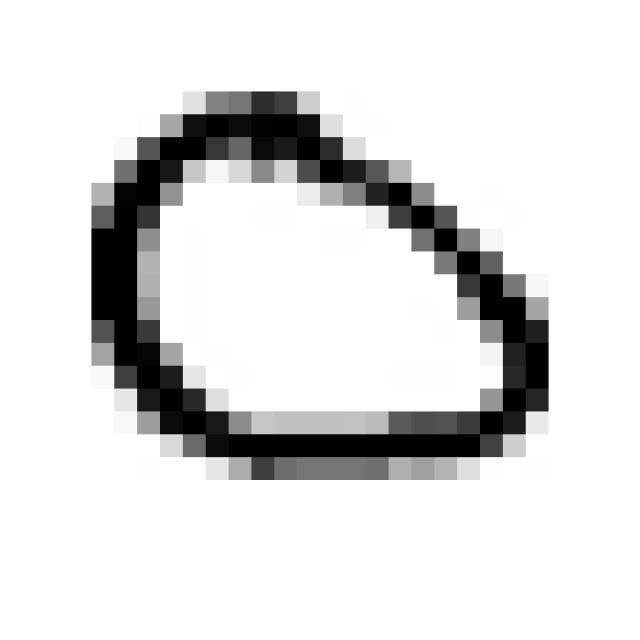5 -five-: (71, 73, 561, 488)
